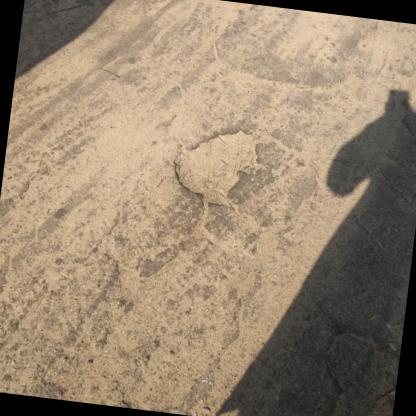pothole: (165, 118, 266, 210)
